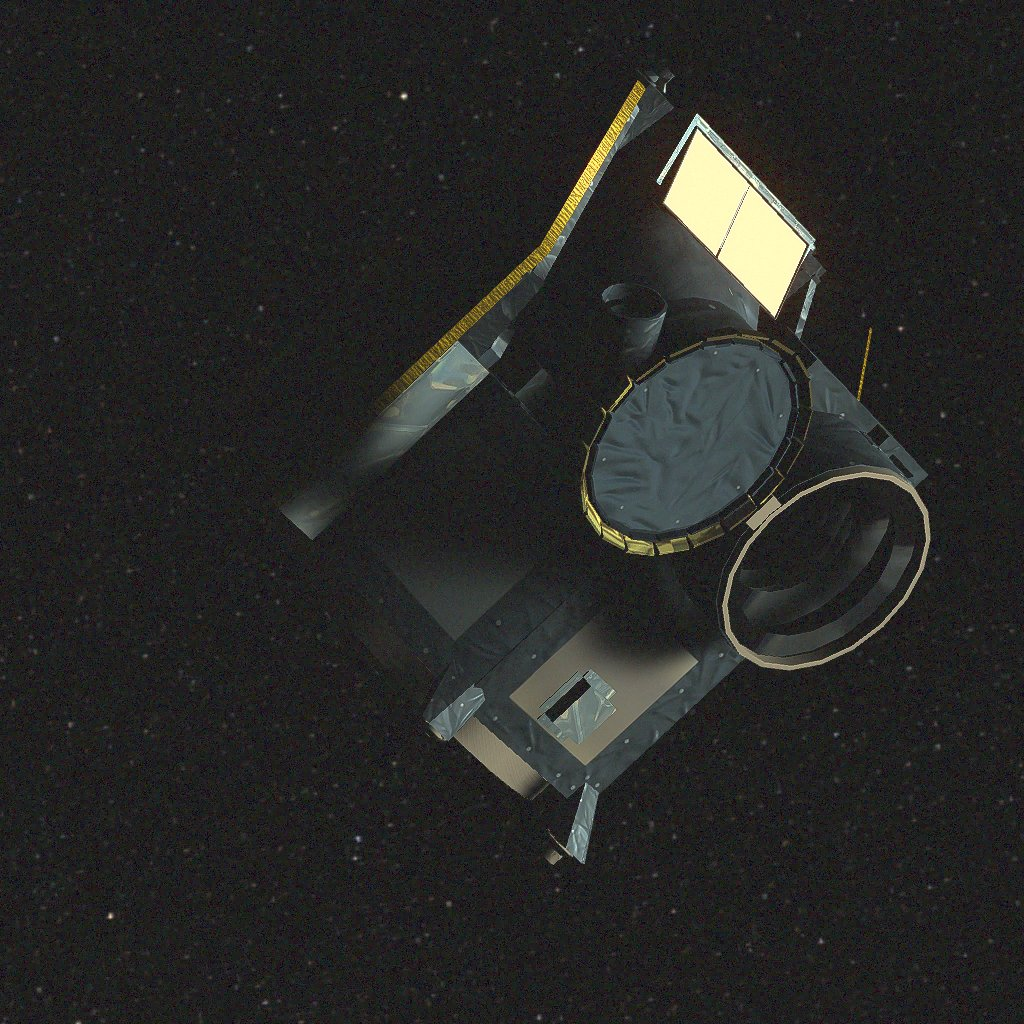cheops: (214, 46, 930, 865)
